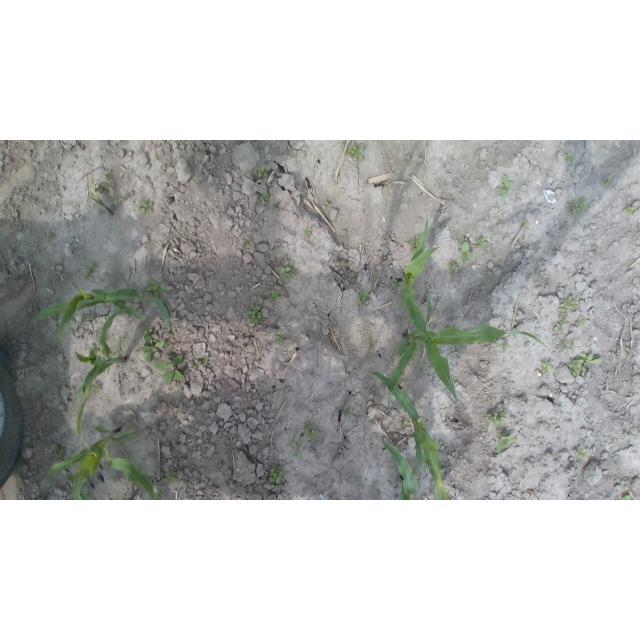Maize: (388, 295, 549, 414), (370, 371, 451, 500), (34, 287, 171, 355), (41, 426, 155, 500), (76, 309, 132, 444), (400, 209, 440, 343), (379, 437, 417, 500), (87, 180, 116, 216)
Weeds: (154, 356, 186, 385), (568, 353, 602, 377), (139, 340, 166, 364), (567, 197, 590, 217), (486, 409, 509, 427), (497, 175, 514, 198), (278, 261, 297, 281), (145, 279, 165, 298), (495, 433, 515, 452), (291, 431, 305, 458), (459, 237, 473, 262), (558, 336, 577, 354), (347, 145, 365, 162), (559, 297, 579, 312), (554, 310, 567, 331), (270, 465, 285, 483), (249, 305, 263, 324), (136, 201, 153, 216), (305, 423, 319, 441), (83, 263, 98, 279), (408, 233, 421, 251), (50, 444, 65, 458), (358, 290, 371, 306), (576, 448, 591, 460), (473, 238, 488, 250), (269, 290, 282, 302), (447, 259, 458, 273), (195, 357, 209, 368), (575, 317, 588, 328), (603, 176, 614, 188), (165, 473, 177, 484), (624, 205, 637, 215), (257, 167, 268, 178), (342, 406, 353, 417), (542, 362, 552, 374), (143, 329, 153, 341), (276, 331, 285, 344), (262, 190, 271, 203), (92, 382, 101, 395), (565, 153, 576, 163), (45, 230, 57, 239), (622, 492, 634, 500), (593, 242, 600, 255), (303, 227, 312, 237), (368, 387, 378, 396), (104, 170, 114, 179), (393, 279, 401, 290), (243, 237, 252, 246), (155, 395, 164, 404), (368, 339, 375, 350), (157, 489, 164, 500), (502, 342, 509, 351), (294, 337, 303, 344), (112, 477, 120, 484), (117, 194, 124, 202), (323, 201, 330, 208), (522, 221, 529, 228), (623, 431, 630, 437), (536, 267, 541, 275), (359, 365, 364, 372), (450, 347, 455, 353), (416, 345, 420, 351), (344, 259, 348, 264)
